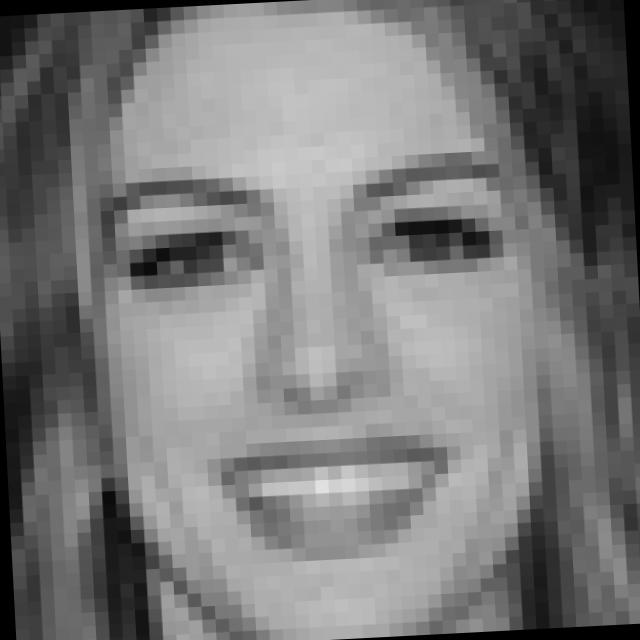happy: (96, 138, 535, 579)
